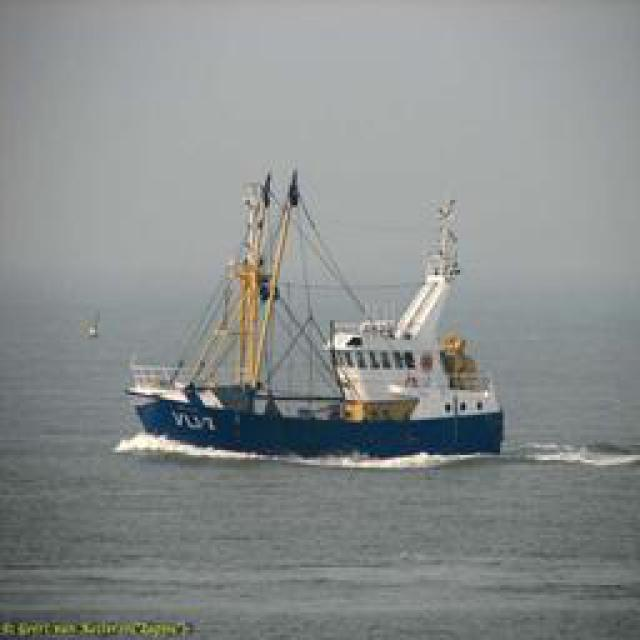Ship: (126, 156, 504, 461)
